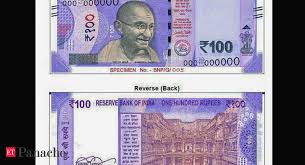hundred: (60, 3, 248, 58)
